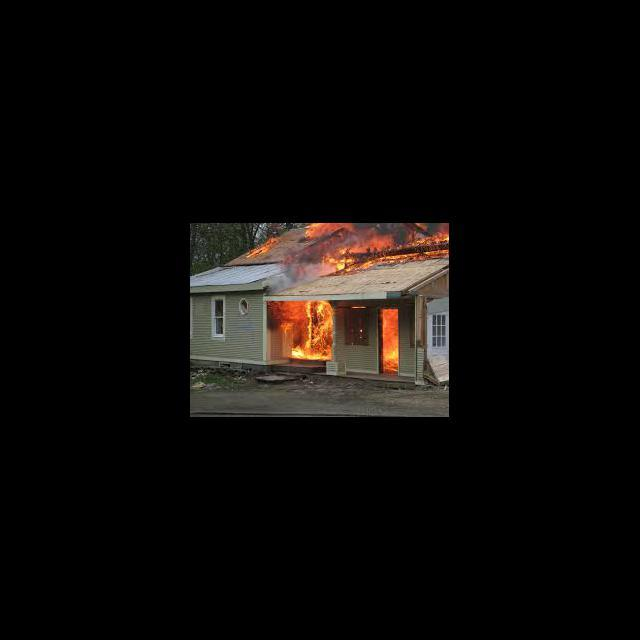Fire: (301, 223, 448, 274), (268, 300, 334, 362), (381, 308, 400, 374), (245, 236, 278, 258)
Smoke: (266, 273, 298, 288)
